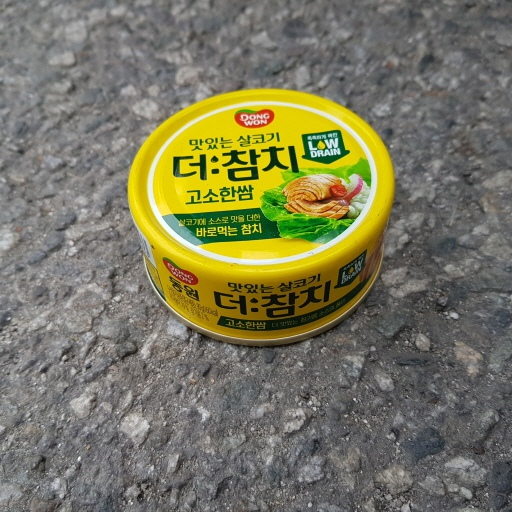Metal_1: (126, 87, 397, 345)
